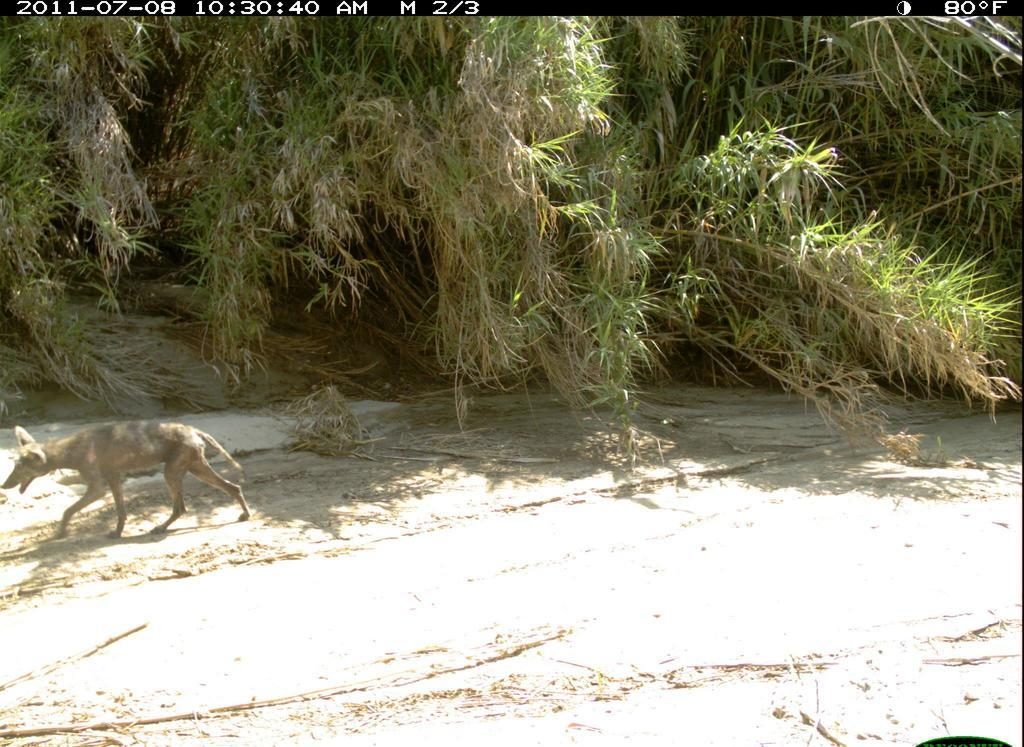coyote: (4, 404, 263, 559)
